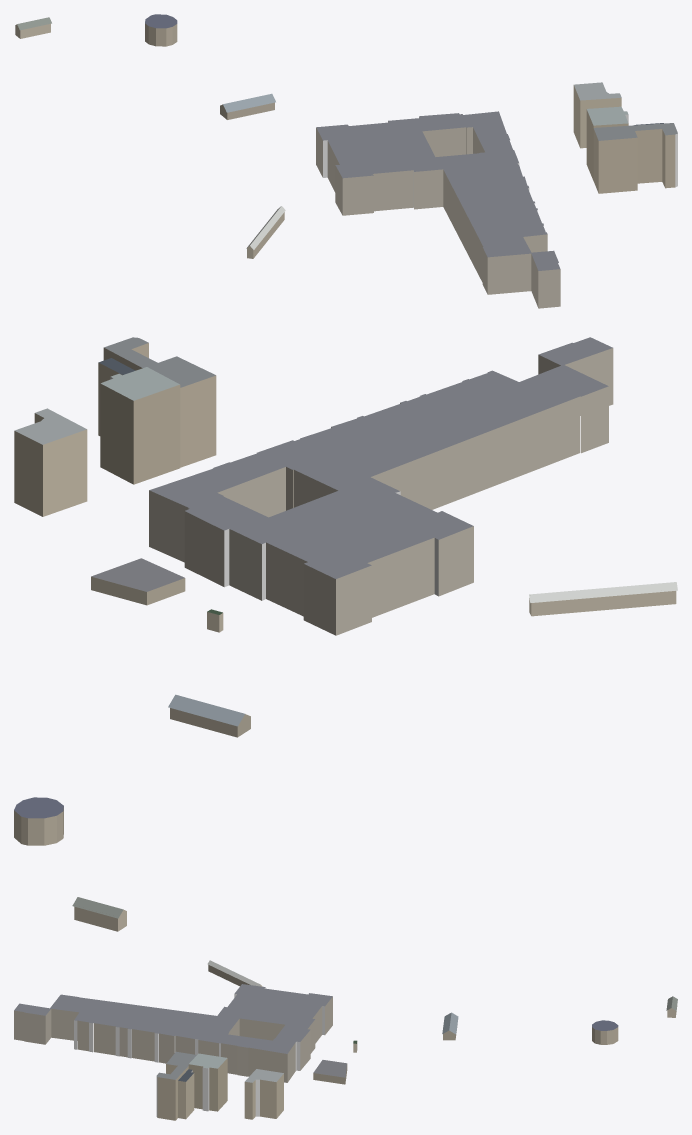
3 views of the same model, one above another, from view 1: azimuth 30°, elevation 25°; view 2: azimuth 150°, elevation 25°; view 3: azimuth 270°, elevation 25° (orthographic). The views are drawn at different scales.
Visible parts, largest first — view 1: tuile; view 2: tuile; view 3: tuile.
Boxes of the visible parts, bbox=[...] form: tuile: bbox=[15, 14, 677, 308]; tuile: bbox=[14, 337, 677, 931]; tuile: bbox=[14, 960, 677, 1120].
Size of the model in its own units: 176 by 29.29 by 324.
